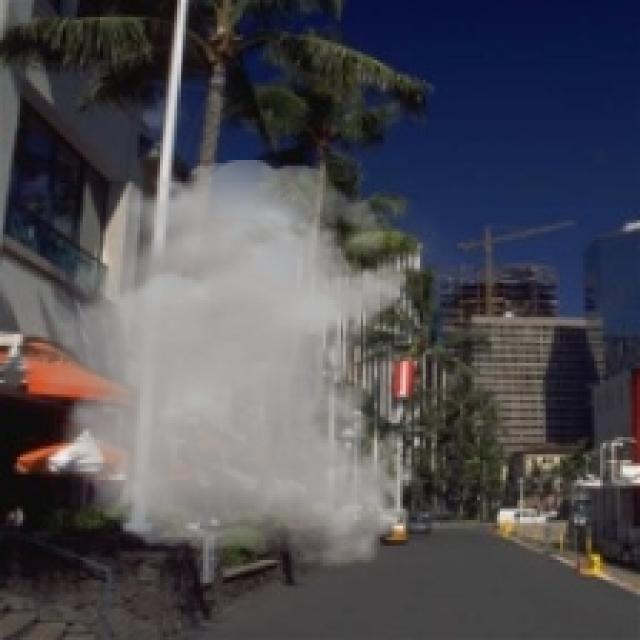Smoke: (8, 160, 420, 569)
